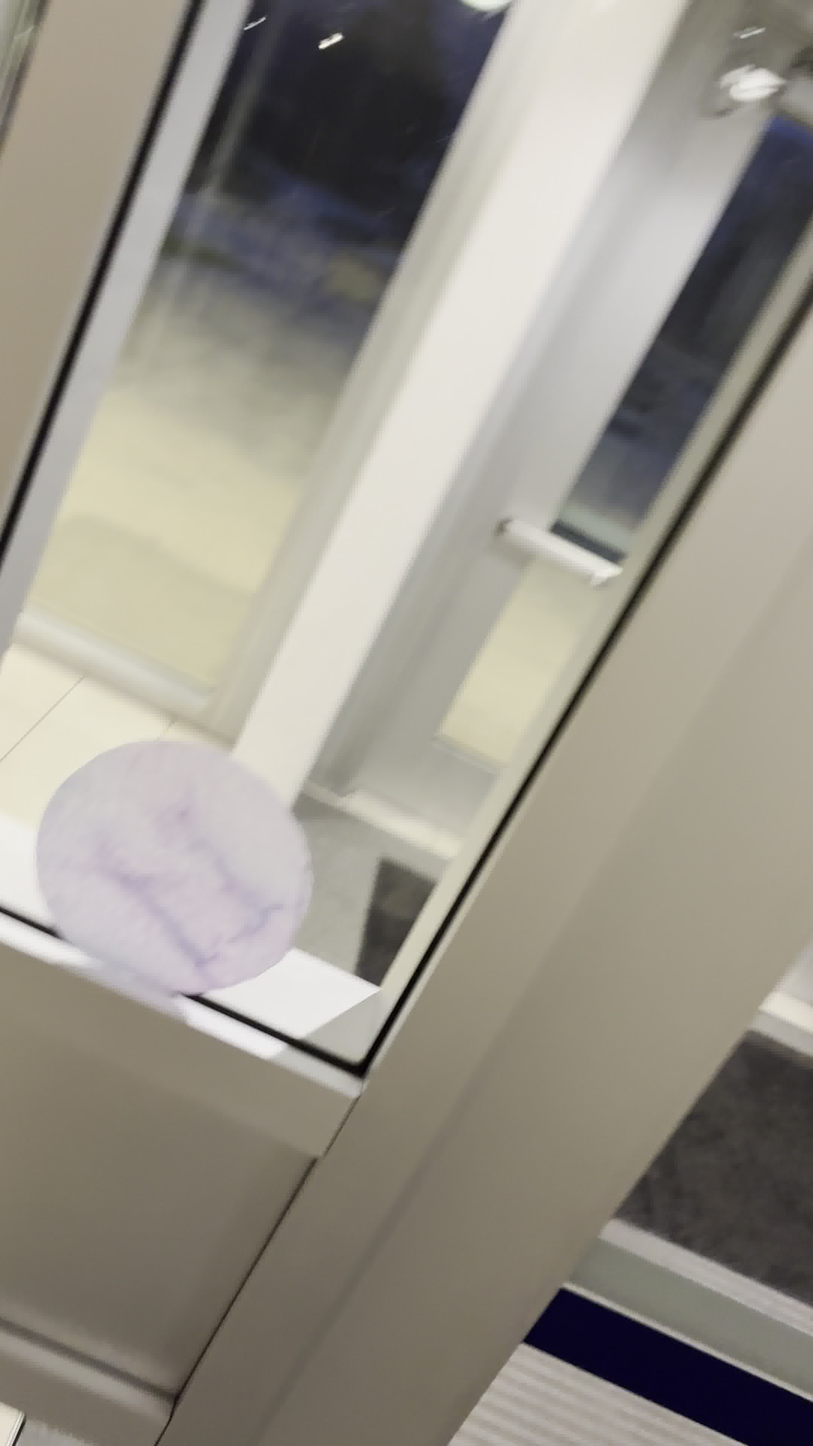Target: (32, 735, 317, 999)
